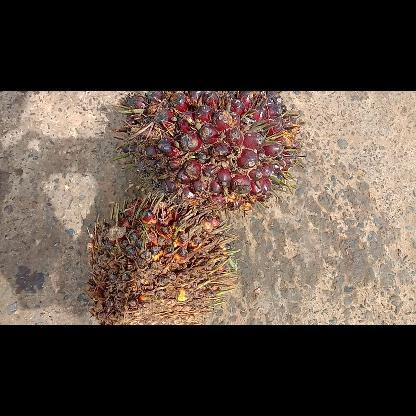Kurang masak: (110, 90, 306, 214)
TBS abnormal: (86, 192, 240, 324)
